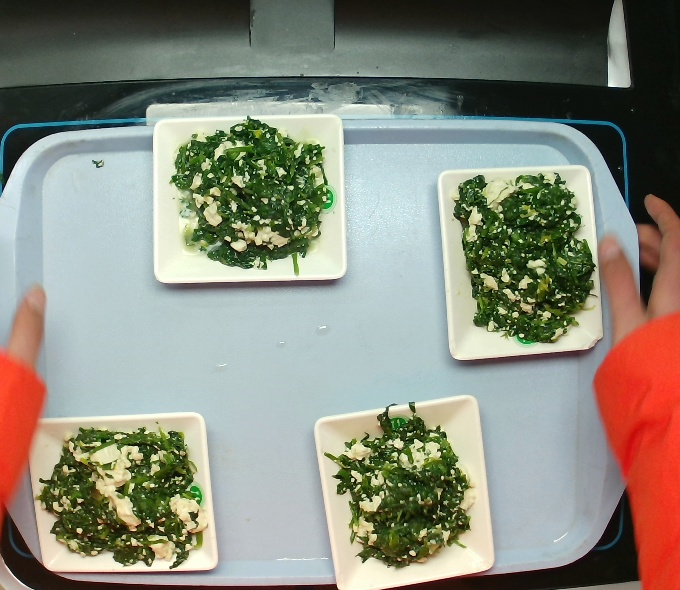wcq-QinCaiYeDouFu: (438, 162, 615, 356), (322, 388, 475, 584), (165, 116, 332, 273), (32, 424, 211, 563)
